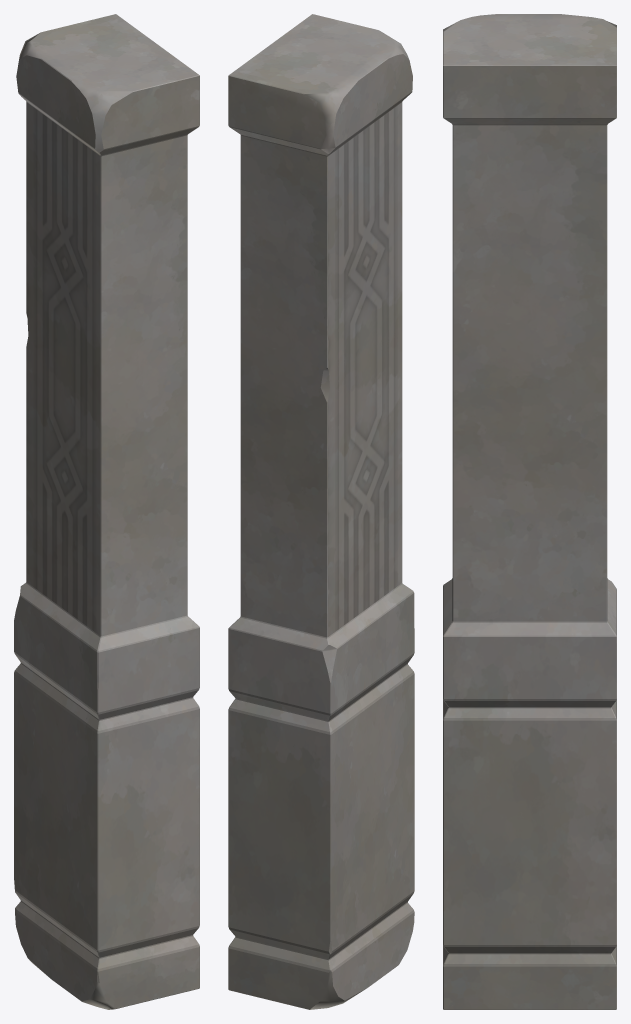
The model's file is SM_Pillar.fbx.
3 renders of one model, left to right at view 1: azimuth 30°, elevation 25°; view 2: azimuth 150°, elevation 25°; view 3: azimuth 270°, elevation 25°, orthographic. The views are drawn at different scales.
Visible parts, largest first — view 1: SM_Pillar_LOD0; view 2: SM_Pillar_LOD0; view 3: SM_Pillar_LOD0.
Boxes of the visible parts, x1,y1,x2,y2 form: SM_Pillar_LOD0: (14, 14, 199, 1009); SM_Pillar_LOD0: (228, 14, 414, 1009); SM_Pillar_LOD0: (443, 14, 616, 1009).
Size of the model in its own units: 70.53 by 100 by 600.
1 material, 1 textured.
